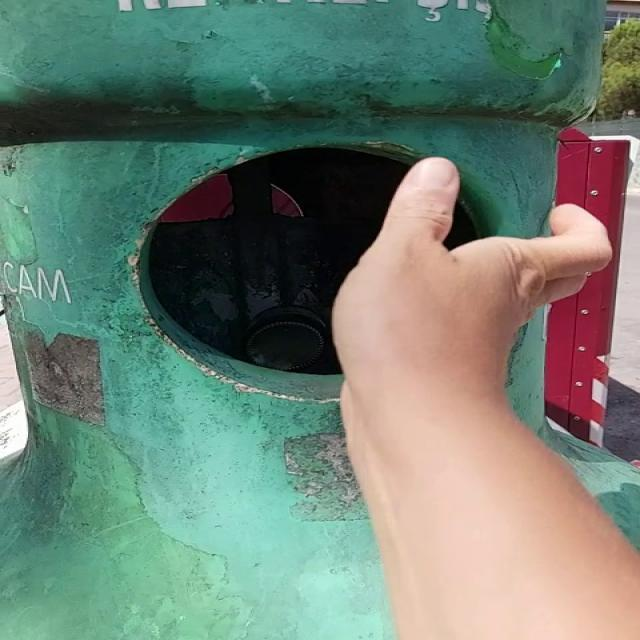Glass: (245, 308, 325, 372)
